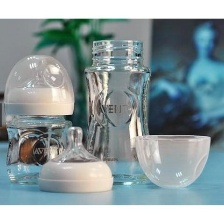bottle: (82, 37, 153, 187)
